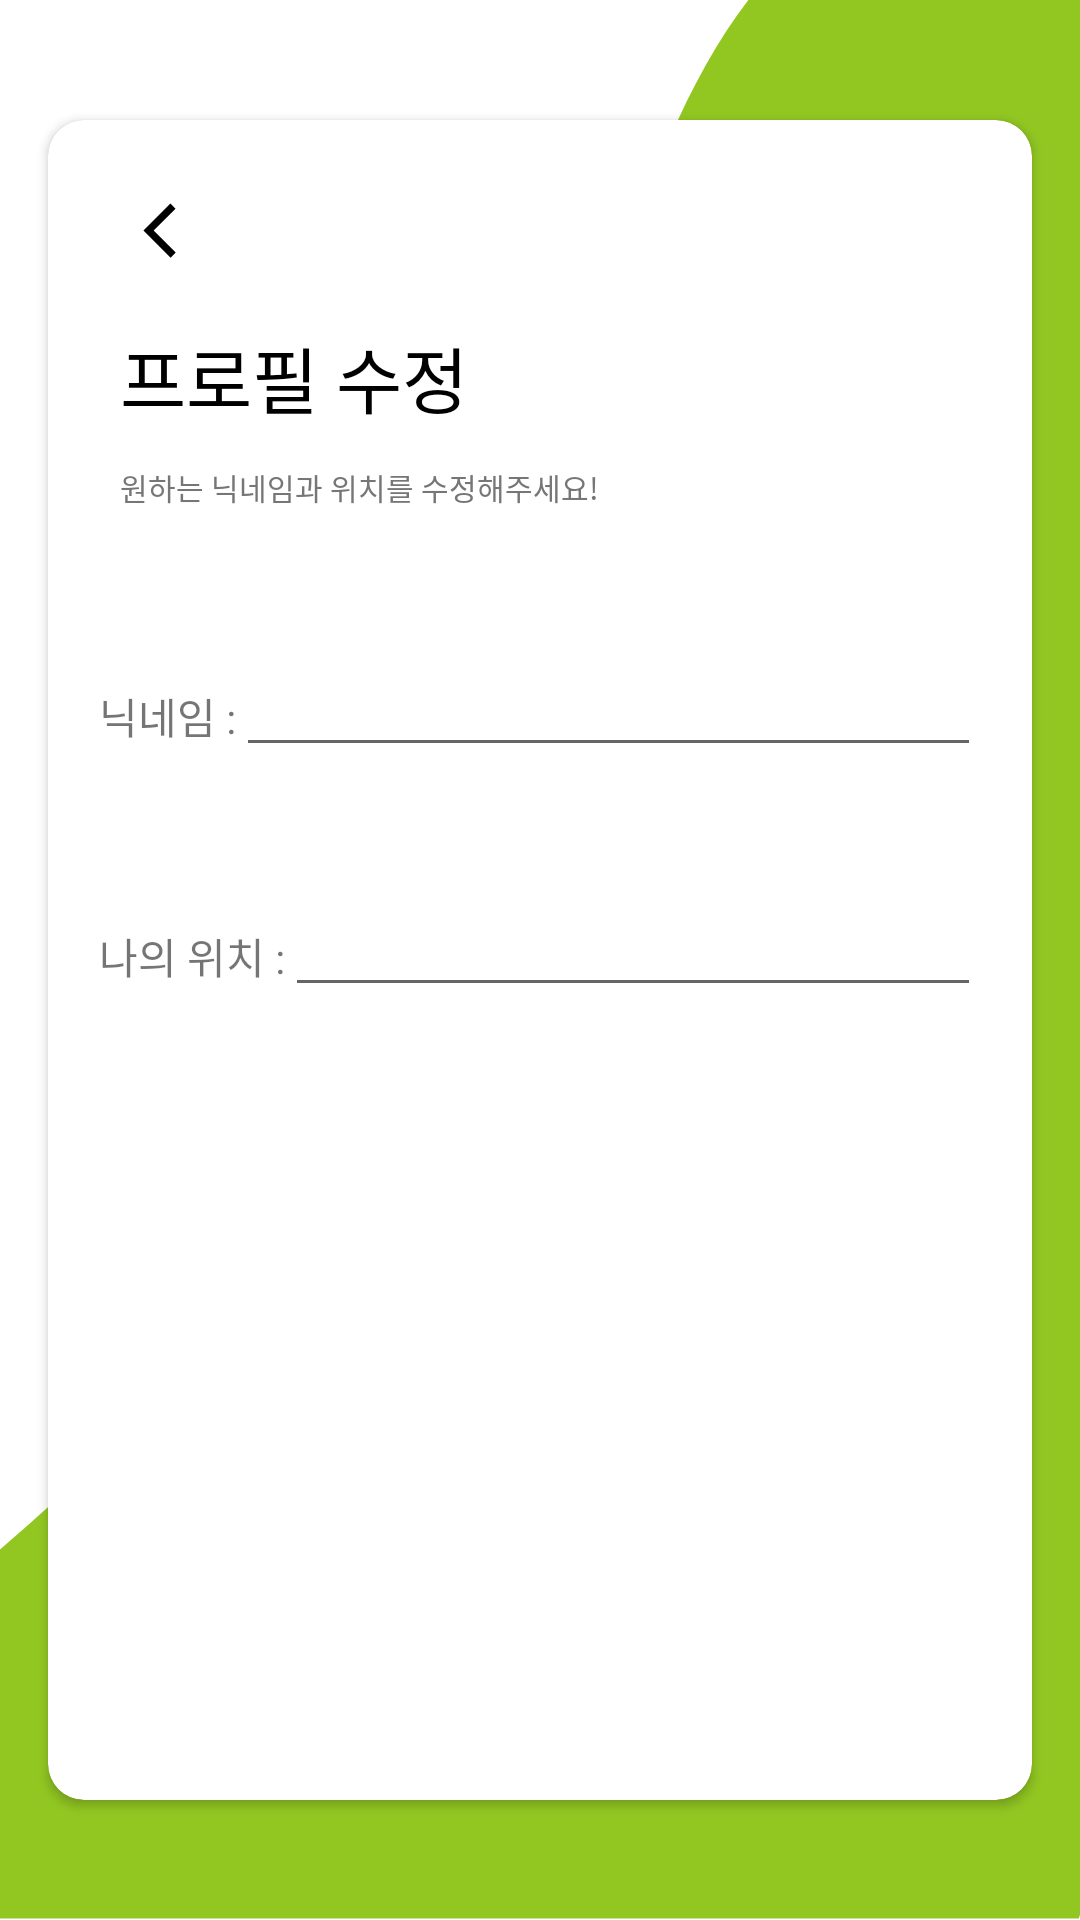

Point at icon controls on the screen. Image size 1080px×1920px, points as point (x, y).
back: point (159, 230)
